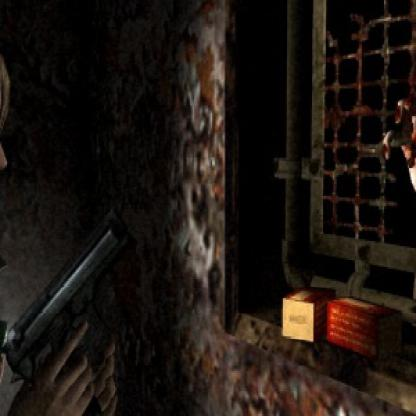gun: (0, 220, 142, 415)
